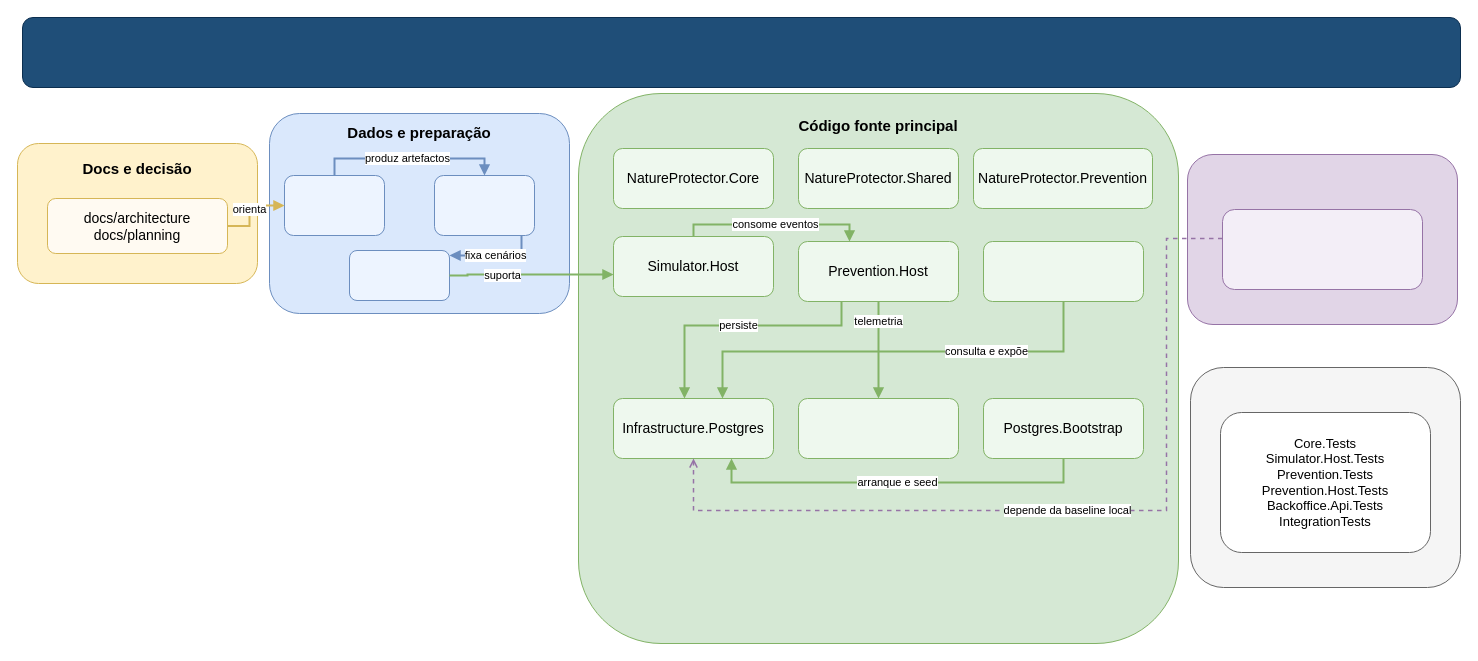
This 1478x661 diagram has some shape labels left out. Here are the shapes that lost their labels. From the top down, the centre of each, then its label:
the point at 741,52: Mapeamento da arquitetura para o código
the point at 334,205: scripts/data
the point at 484,205: data/baseline
the point at 1322,249: docker-compose.yml infra/postgres infra/grafana
the point at 399,275: data/manifests
the point at 1063,271: Backoffice.Api
the point at 878,428: Infrastructure.Influx
